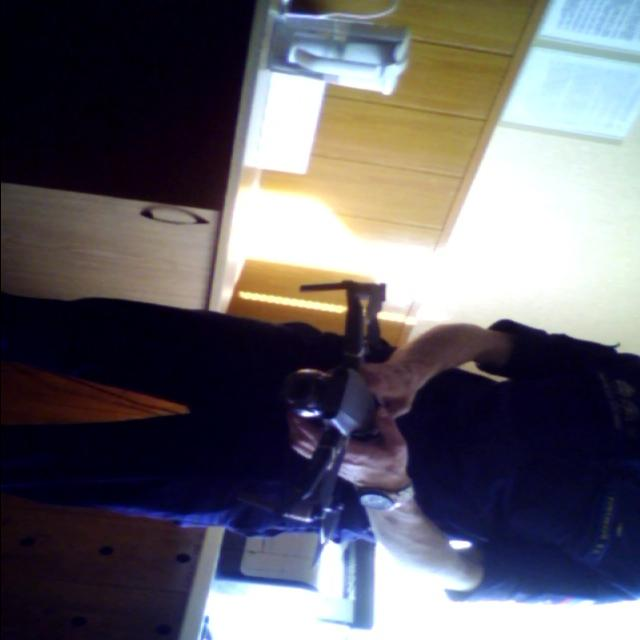drone: (242, 264, 434, 560)
